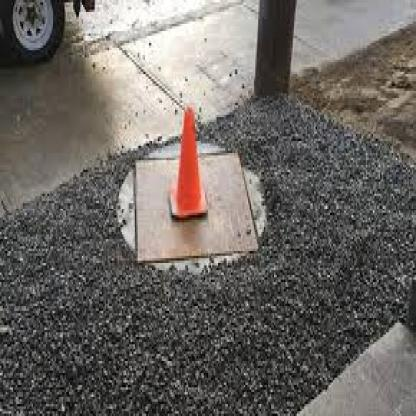manholes: (108, 129, 278, 301)
